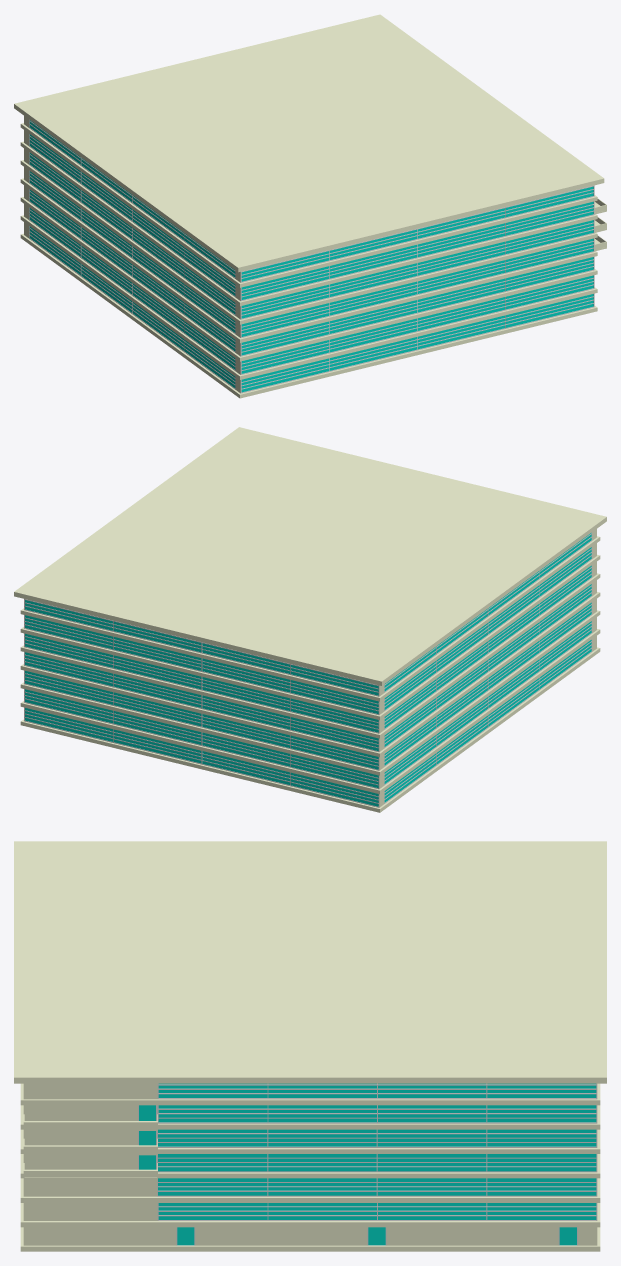
The model's file is Administration Building.fbx.
3 renders of one model, top to bottom at view 1: azimuth 30°, elevation 25°; view 2: azimuth 150°, elevation 25°; view 3: azimuth 270°, elevation 25°, orthographic. The views are drawn at different scales.
Parts seen in each view (by area): view 1: Administration Building; view 2: Administration Building; view 3: Administration Building.
Boxes of the visible parts, <box> form: Administration Building: <box>14,14,606,398</box>; Administration Building: <box>14,427,606,812</box>; Administration Building: <box>14,841,606,1251</box>.
Bounding box in the file's own units: 5284 × 1811 × 5509.
